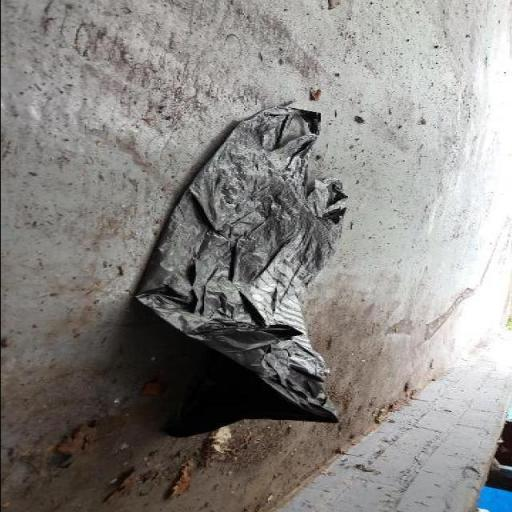plastic-bag: (127, 101, 354, 441)
